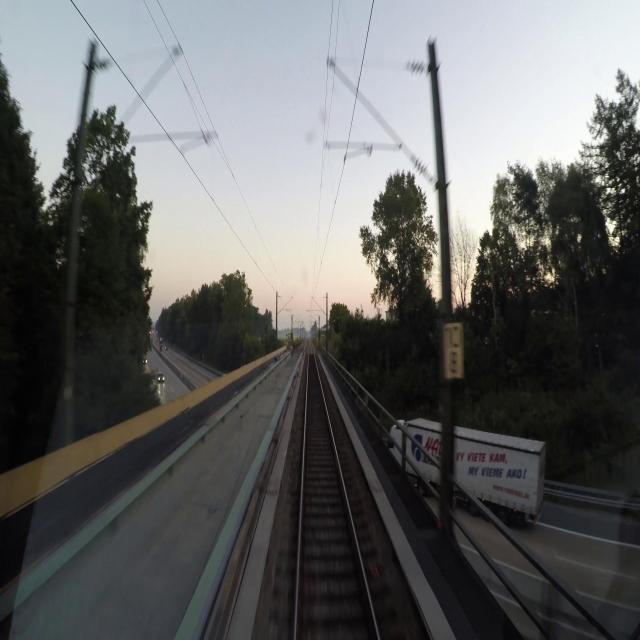rail-track: (298, 347, 376, 639)
